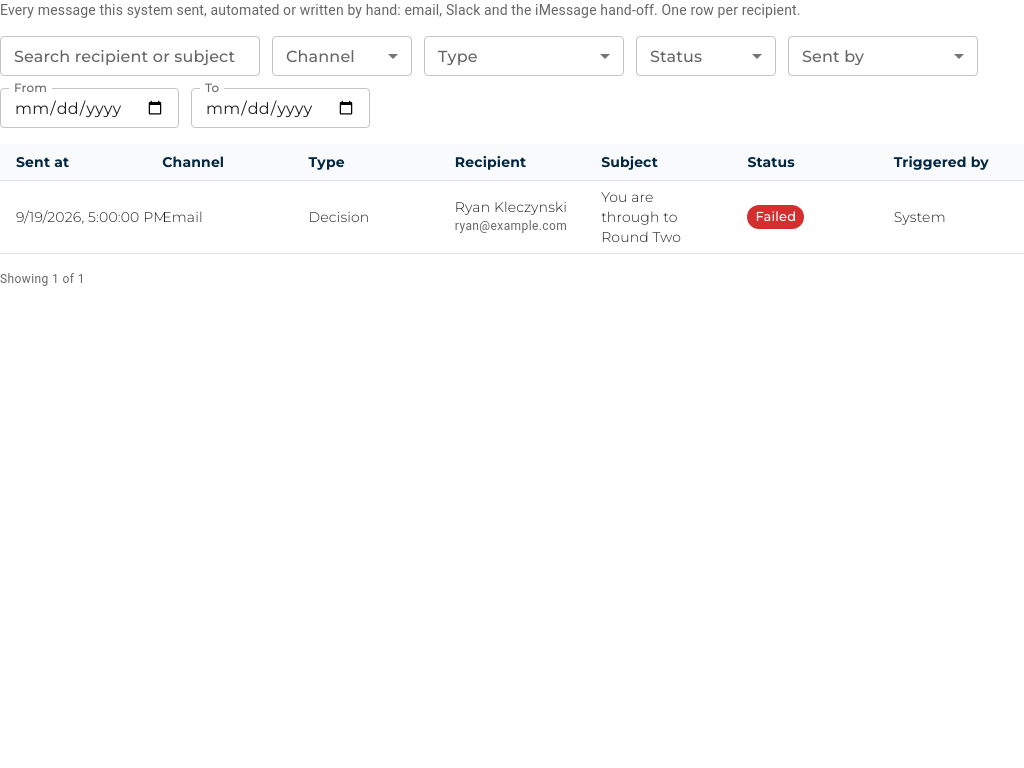
it: the log › shows a failed send and the reason it failed
The image size is (1024, 768).
Check: the text "Failed" is shown, box x1=755 y1=208 x2=796 y2=224
Step 1. Click the text "You are through to Round Two" → (658, 218), box x1=585 y1=181 x2=731 y2=254
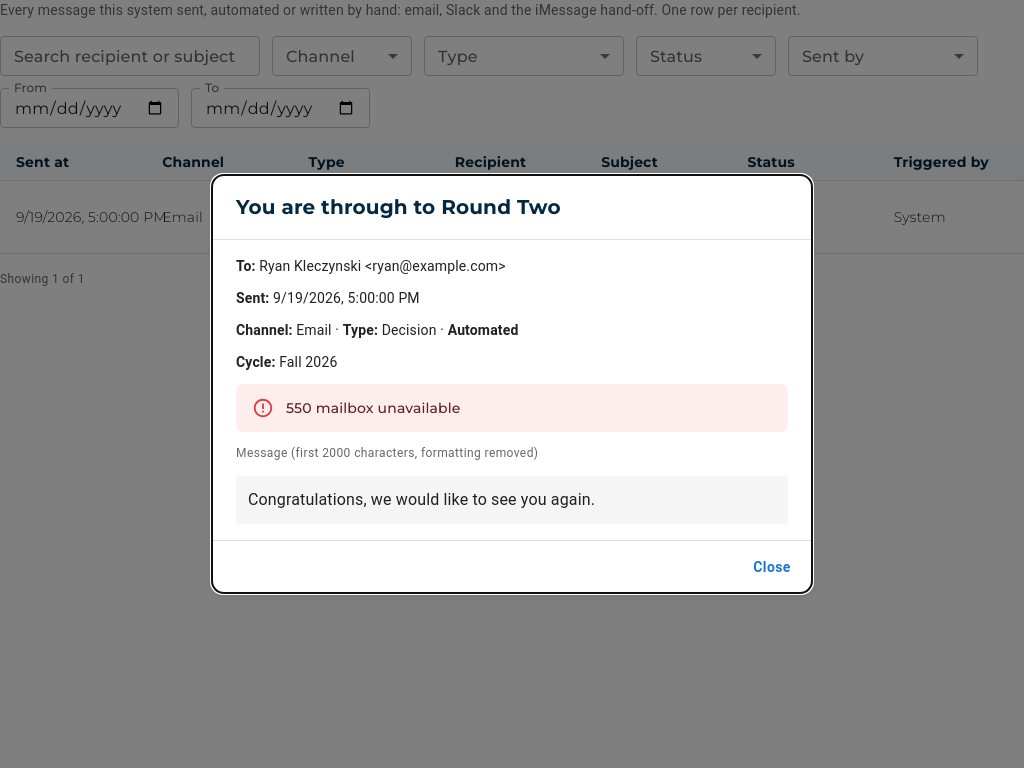
Check: the text "550 mailbox unavailable" is shown, box x1=286 y1=399 x2=461 y2=417
